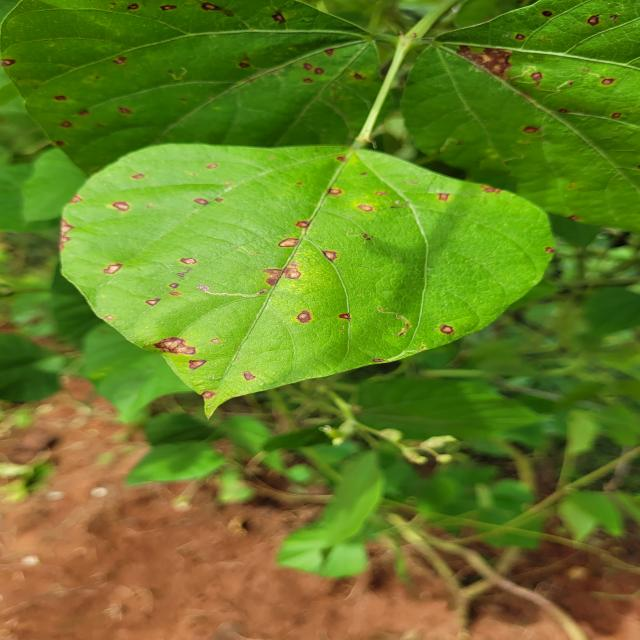Dolicos bean_cercospora leaf spot: (63, 140, 553, 415), (0, 0, 410, 205), (404, 0, 640, 232)
